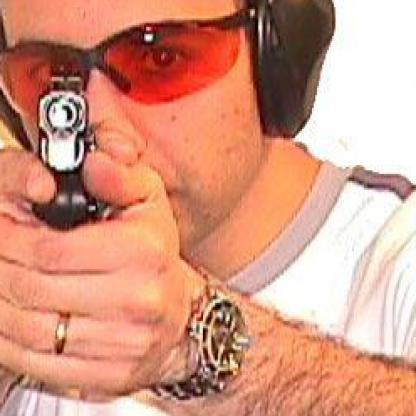gun: (18, 72, 104, 224)
